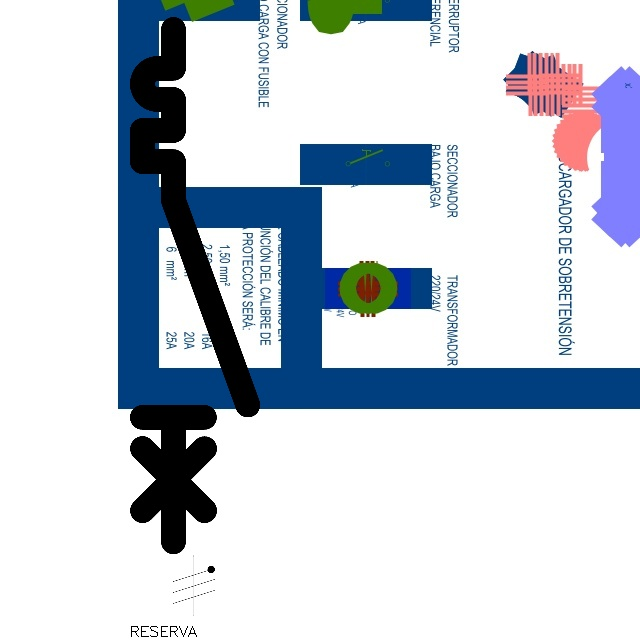interruptor_termomagnetico: (129, 16, 261, 555)
